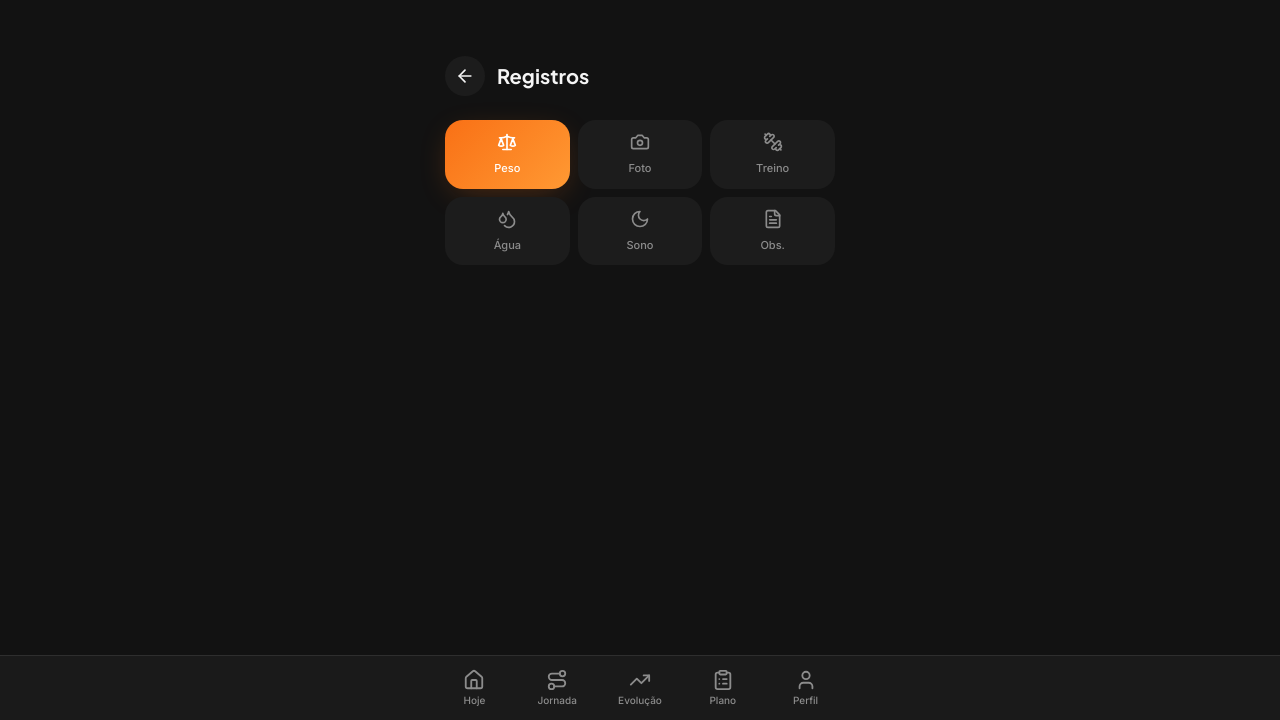
Registros / aba Sono — registro real (WP-SLEEP-A) › mostra o formulário (horas, dia, qualidade e Salvar), sem cadeado
This screenshot has width=1280, height=720.
Click the button "Sono" at (640, 231), box [578, 196, 702, 265]
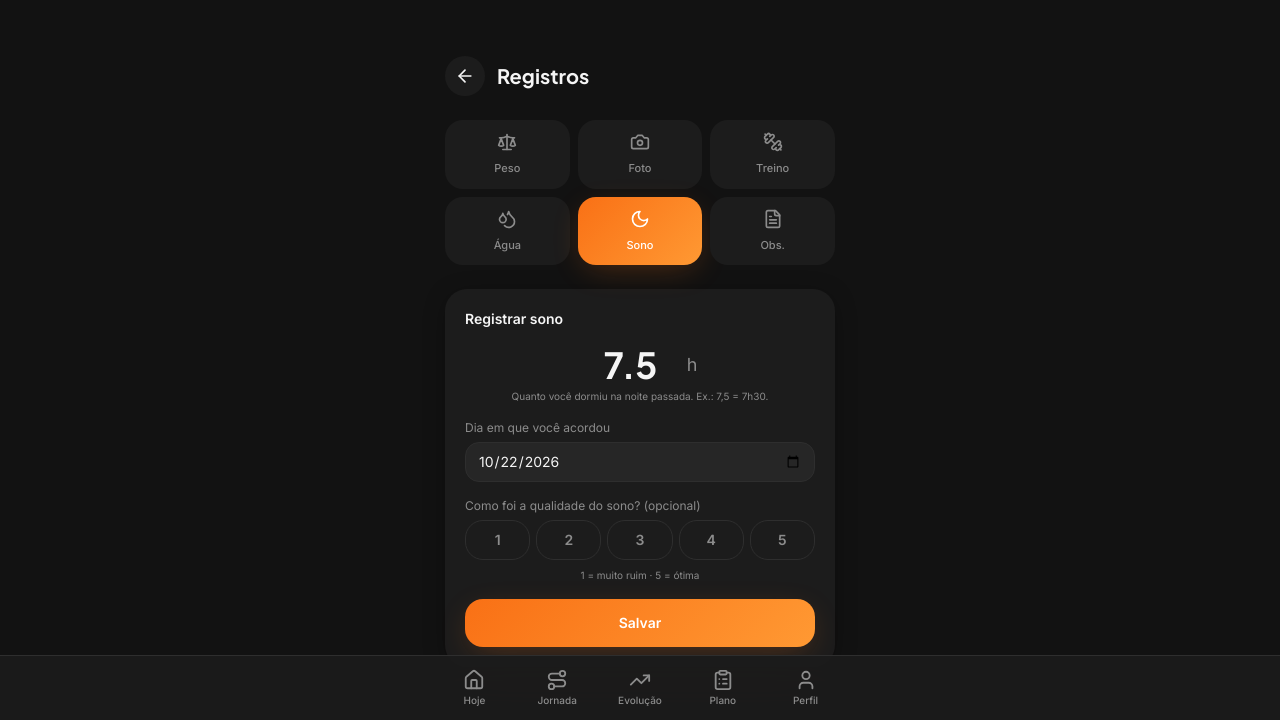
Expected: the heading "Registrar sono" is shown, [465, 310, 563, 327]
Expected: the field named "Horas dormidas" is shown, [583, 345, 679, 385]
Expected: the date field labelled "Dia em que você acordou" is shown, [465, 442, 815, 482]
